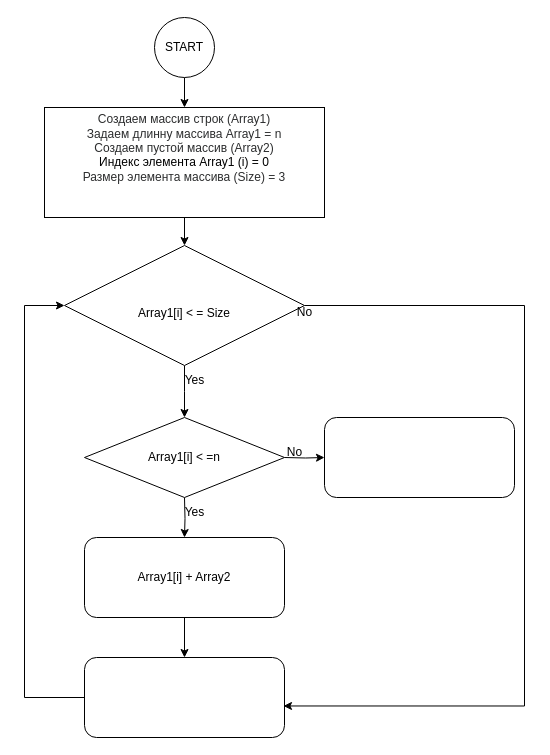
The diagram is 550 pixels wide and 755 high, and some of its shapes have lost their labels. The shapes that lost their labels are listed below. From the top down, each one's box as (x1, y1, x2, y2) in pixels, then its label:
(324, 416, 514, 498): Print - Array2
(84, 656, 284, 738): Array1[i] + 1
